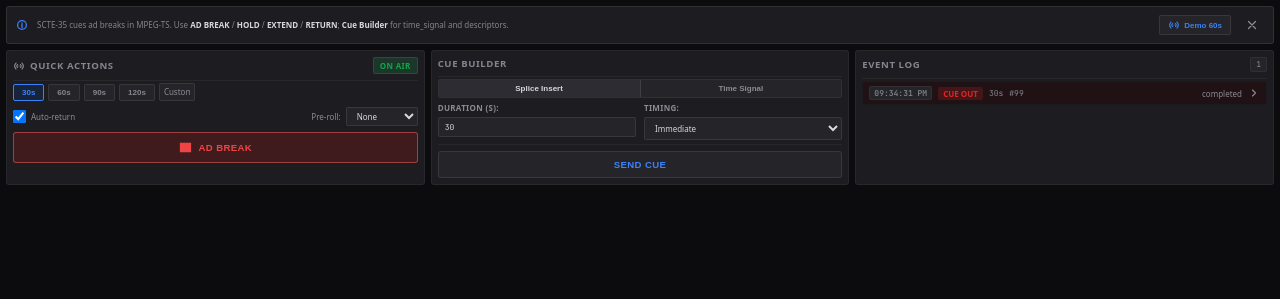
Scenario: SCTE35Panel › opens inline event detail when log row clicked
Click the button with class "log-row": (901,93) top-left (863, 82), bottom-right (1266, 104)
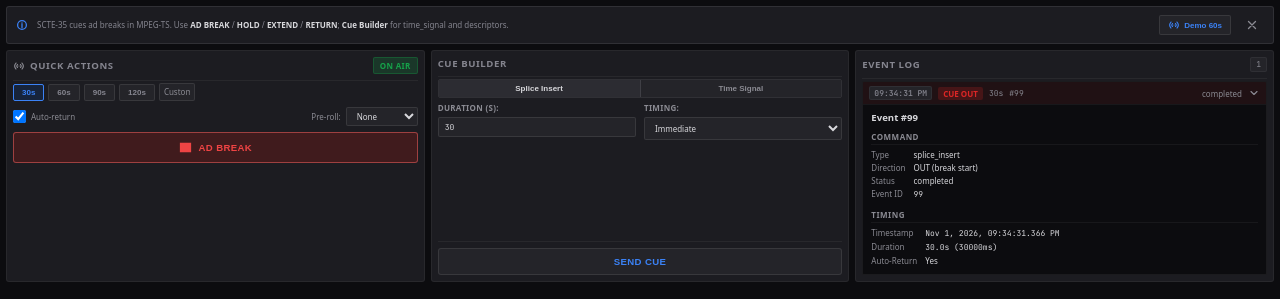
Expected: the element with class "log-detail" is shown, top-left (863, 104), bottom-right (1266, 274)
Expected: the element with class "log-detail" shows "Event #99", top-left (871, 111), bottom-right (918, 124)
Expected: the element with class "log-detail" shows "splice_insert", top-left (914, 149), bottom-right (960, 160)
